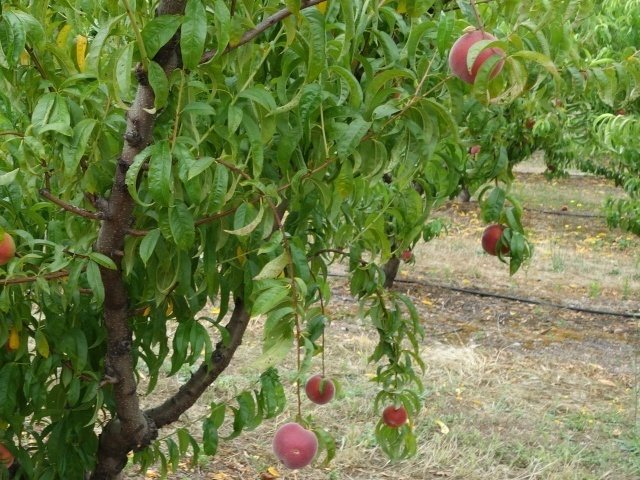peach: (445, 24, 508, 88), (271, 418, 321, 473), (478, 221, 516, 261), (303, 370, 337, 409), (380, 400, 409, 431), (1, 229, 17, 268)
